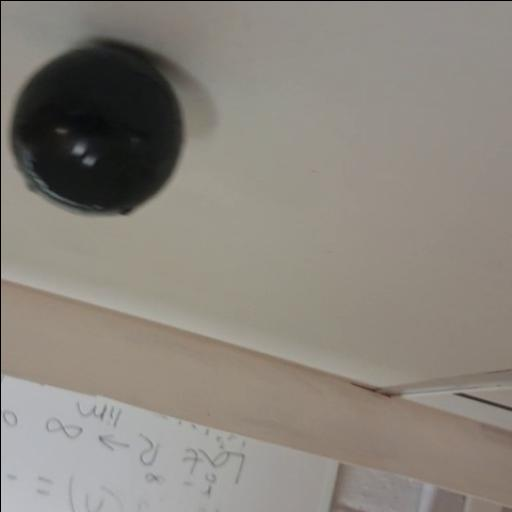dead: (7, 38, 186, 220)
